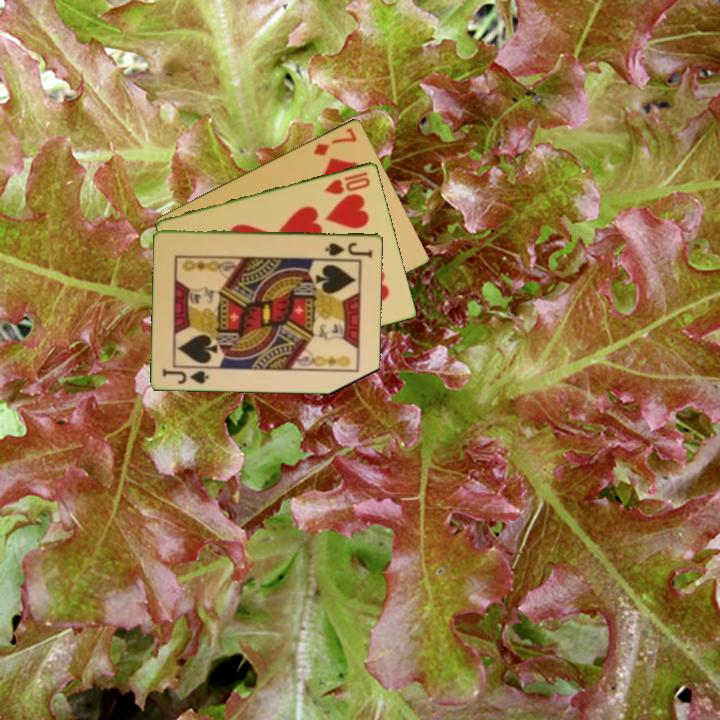10h: (321, 168, 373, 197)
7d: (310, 124, 360, 158)
Js: (160, 365, 212, 387), (322, 239, 375, 259)
